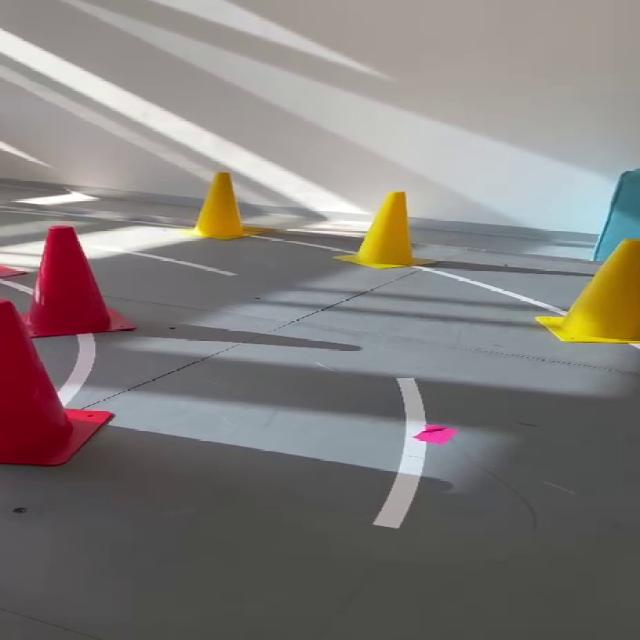Cone-red: (0, 226, 134, 465)
Cones-yellow: (539, 239, 639, 343), (337, 192, 414, 268), (193, 172, 246, 238)
